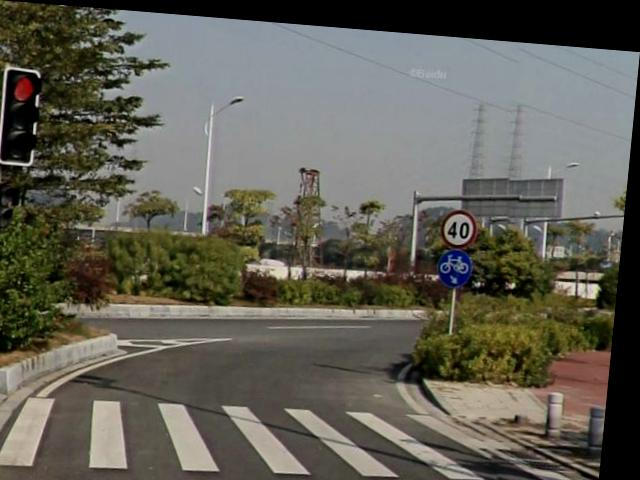limit40: (443, 201, 482, 242)
